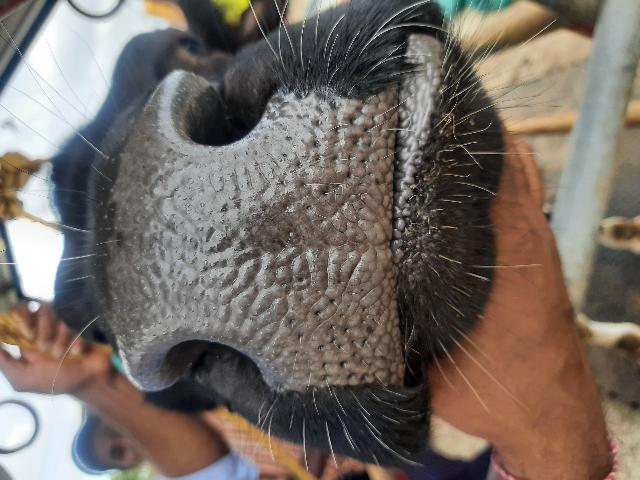Muzzle: (114, 112, 402, 394)
